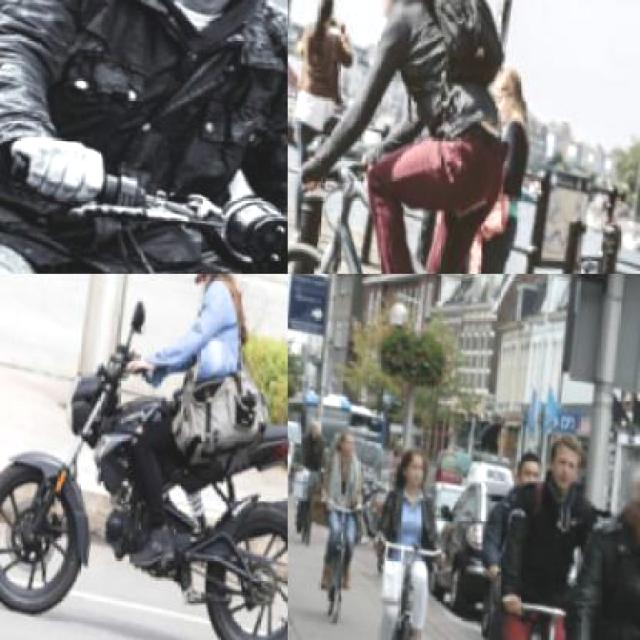With Helmet: (356, 0, 444, 26)
Without Helmet: (539, 418, 590, 493), (611, 443, 638, 548), (387, 437, 436, 491), (328, 418, 359, 456), (300, 406, 322, 440)
